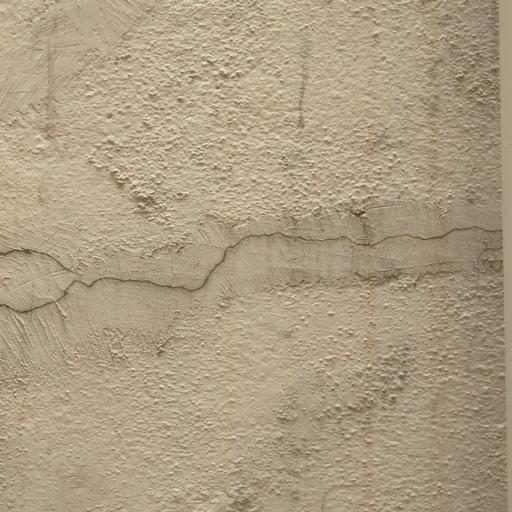minor_crack: (0, 202, 512, 320)
